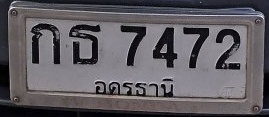txt01: (30, 22, 62, 67)
txt19: (67, 23, 101, 68)
